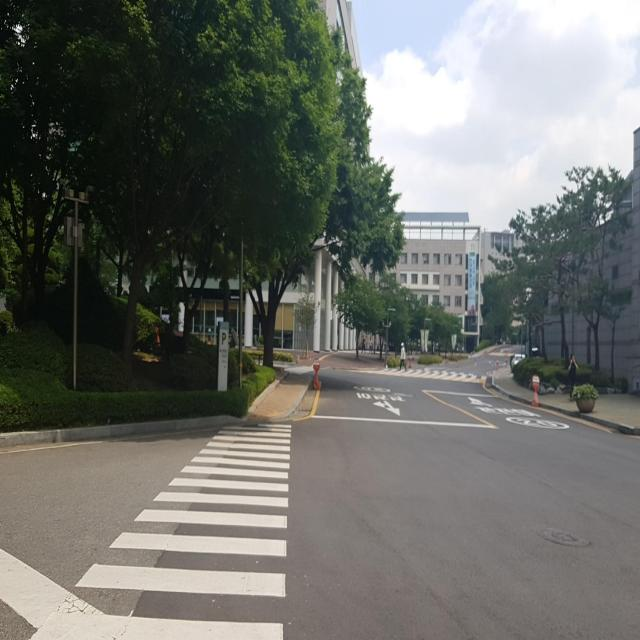횡단보도: (26, 417, 294, 640), (371, 359, 488, 383)
